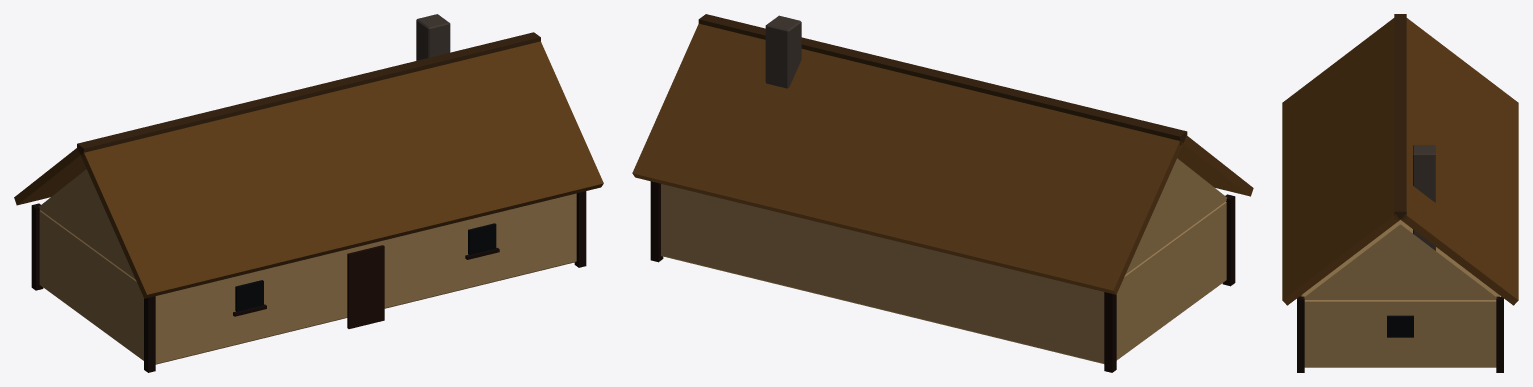
File: house_long_posts.fbx
3 views of the same model, side by side, from view 1: azimuth 30°, elevation 25°; view 2: azimuth 150°, elevation 25°; view 3: azimuth 270°, elevation 25° (orthographic). The views are drawn at different scales.
Visible parts, largest first — view 1: house_long_posts; view 2: house_long_posts; view 3: house_long_posts.
Part boxes in pixels (x1=…): house_long_posts: x1=14, y1=14, x2=603, y2=372; house_long_posts: x1=632, y1=14, x2=1253, y2=372; house_long_posts: x1=1282, y1=14, x2=1518, y2=372.
Bounding box in the file's own units: 12.2 × 5.58 × 6.16.
